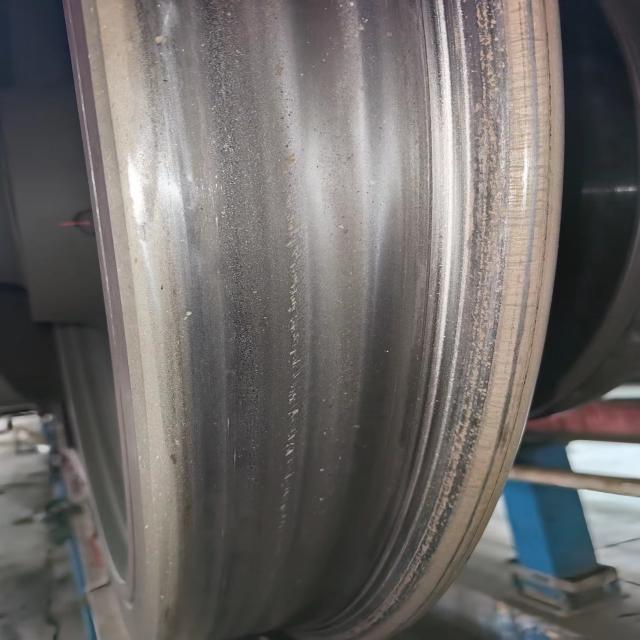Contact_Fatigue_Cracks: (286, 195, 298, 483), (281, 486, 291, 529), (173, 436, 183, 450)
